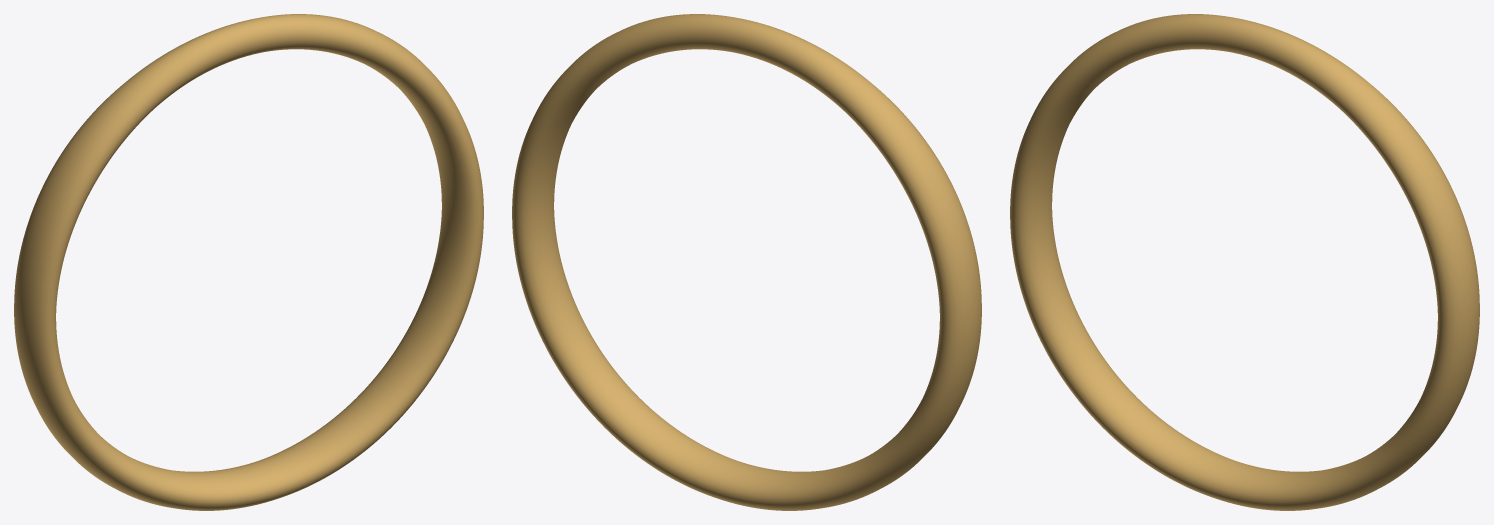
The model's file is band-tapered.glb.
3 renders of one model, left to right at view 1: azimuth 30°, elevation 25°; view 2: azimuth 150°, elevation 25°; view 3: azimuth 330°, elevation 25°, orthographic.
Parts seen in each view (by area): view 1: Band.001; view 2: Band.001; view 3: Band.001.
Part boxes in pixels (<box>): Band.001: <box>14,14,483,510</box>; Band.001: <box>512,14,981,510</box>; Band.001: <box>1010,14,1479,510</box>.
Bounding box in the file's own units: 19.6 × 19.6 × 2.2.
